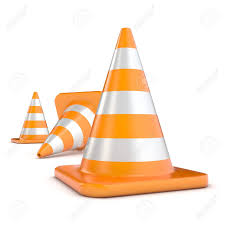cones: (54, 29, 208, 194), (36, 87, 109, 158), (13, 93, 52, 146)
